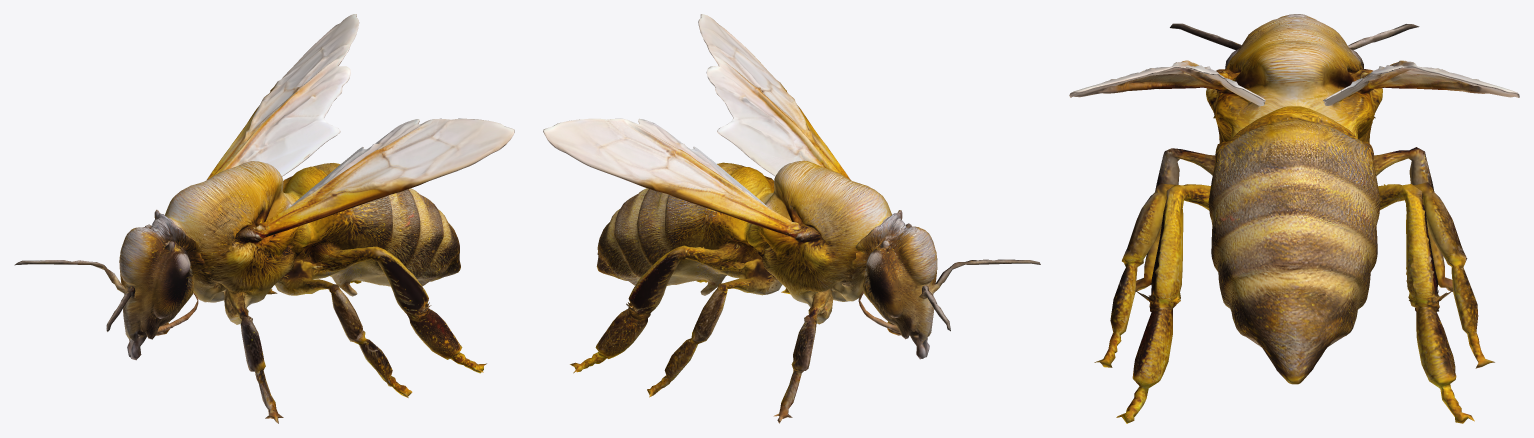
File: abe.glb
The picture shows the model from 3 angles, left to right: view 1: azimuth 30°, elevation 25°; view 2: azimuth 150°, elevation 25°; view 3: azimuth 270°, elevation 25°; orthographic projection. The views are drawn at different scales.
Parts seen in each view (by area): view 1: tripo_node_8a0baab3-a075-4615-93b5-758e447b000d; view 2: tripo_node_8a0baab3-a075-4615-93b5-758e447b000d; view 3: tripo_node_8a0baab3-a075-4615-93b5-758e447b000d.
Boxes of the visible parts, x1=… form: tripo_node_8a0baab3-a075-4615-93b5-758e447b000d: x1=14, y1=14, x2=514, y2=423; tripo_node_8a0baab3-a075-4615-93b5-758e447b000d: x1=543, y1=14, x2=1040, y2=423; tripo_node_8a0baab3-a075-4615-93b5-758e447b000d: x1=1069, y1=14, x2=1519, y2=423.
Bounding box in the file's own units: 0.986 × 0.6013 × 0.7072.
1 material, 1 textured.
